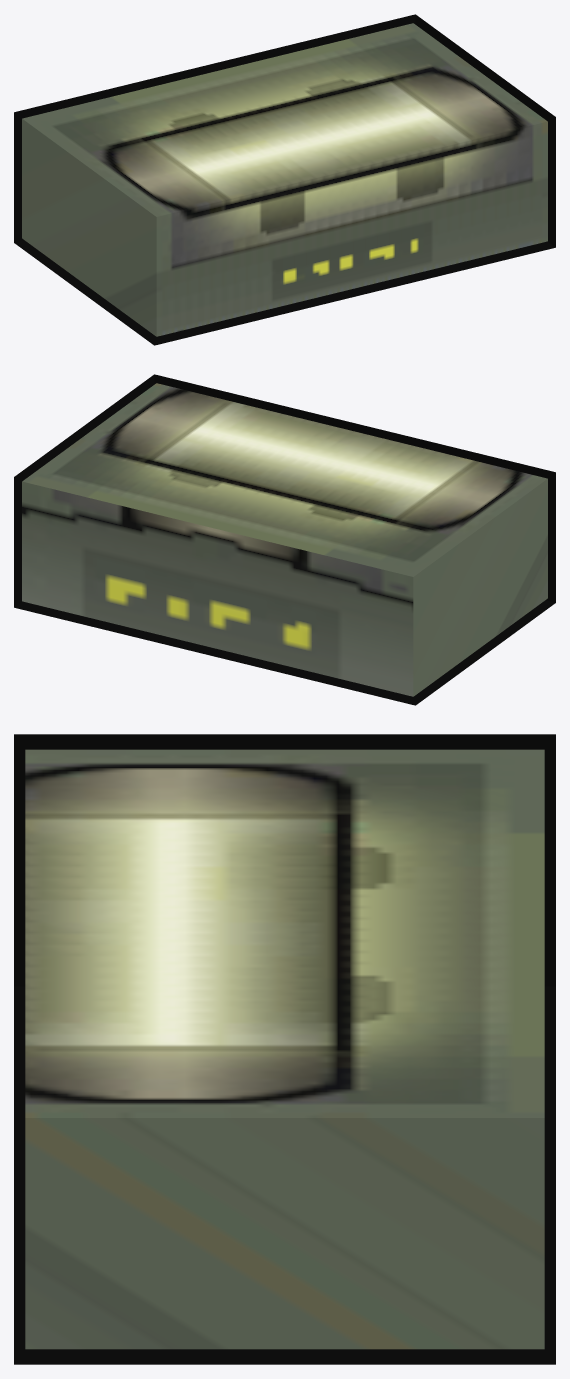
Rendered from Building_VanometricPowerCell_Things_Building_Special_VanometricPowerCell.glb.
The picture shows the model from 3 angles, top to bottom: view 1: azimuth 30°, elevation 25°; view 2: azimuth 150°, elevation 25°; view 3: azimuth 270°, elevation 25°; orthographic projection. The views are drawn at different scales.
Visible parts, largest first — view 1: Body, Outline; view 2: Body, Outline; view 3: Body, Outline.
Boxes of the visible parts, x1,y1,x2,y2 form: Body: [22, 23, 547, 336]; Outline: [14, 14, 555, 345]; Body: [22, 383, 547, 696]; Outline: [14, 374, 555, 705]; Body: [25, 749, 544, 1349]; Outline: [14, 734, 555, 1364].
Bounding box in the file's own units: 1.06 × 0.3288 × 0.6409.
2 materials, 1 textured.
